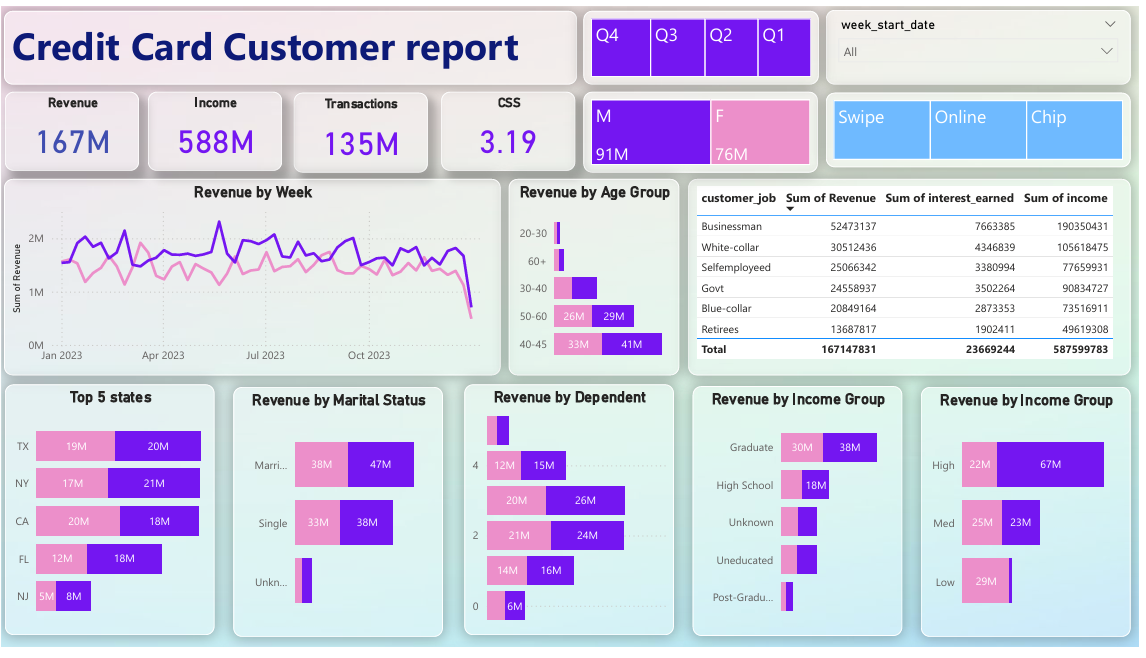

The page's visual inventory and layout, read from the dashboard file:
{"tool":"powerbi","page":{"name":"Credit card Customer report","canvas":[1280,720],"ordinal":2},"visuals":[{"type":"textbox","box":[3.5,4.7,644.2,83.7],"z":0},{"type":"tableEx","fields":{"Values":["public cust_detail.customer_job","Sum(public cc_detail.Revenue)","Sum(public cc_detail.interest_earned)","public cust_detail.income"]},"box":[773.3,194.2,497.7,220.9],"z":1000},{"type":"card","title":"Revenue","fields":{"Values":["Sum(public cc_detail.Revenue)"]},"box":[4.1,96.1,150.9,89.2],"z":2000},{"type":"card","title":"Transactions","fields":{"Values":["Sum(public cc_detail.total_trans_amt)"]},"box":[329.3,97.4,150.9,89.2],"z":3000},{"type":"card","title":"Income","fields":{"Values":["Sum(public cust_detail.income)"]},"box":[164.7,96.1,150.9,89.2],"z":4000},{"type":"card","title":"CSS","fields":{"Values":["Avg(public cust_detail.cust_satisfaction_score)"]},"box":[495.4,96.1,150.9,89.2],"z":5000},{"type":"slicer","fields":{"Values":["public cc_detail.week_start_date"]},"box":[927.6,4.1,343.1,83.7],"z":6000},{"type":"treemap","fields":{"Group":["public cc_detail.qtr"],"Values":["Avg(public cc_detail.client_num)"]},"box":[654.7,4.7,265.1,83.7],"z":7000},{"type":"barChart","title":"Revenue by Income Group","fields":{"Y":["Sum(public cc_detail.Revenue)"],"Category":["public cust_detail.IncomeGroup"],"Series":["public cust_detail.gender"]},"box":[1034.7,428.1,236,281.3],"z":8000},{"type":"lineChart","title":"Revenue by Week","fields":{"Y":["Sum(public cc_detail.Revenue)"],"Series":["public cust_detail.gender"],"Category":["public cc_detail.week_start_date.Variation.Date Hierarchy.Year","public cc_detail.week_start_date.Variation.Date Hierarchy.Month","public cc_detail.week_start_date.Variation.Date Hierarchy.Day"]},"box":[3.5,194.2,558.1,220.9],"z":9000},{"type":"treemap","title":"Revenue by gender","fields":{"Group":["public cust_detail.gender"],"Values":["Sum(public cc_detail.Revenue)"]},"box":[654.5,96.1,264.8,90.6],"z":10000},{"type":"barChart","title":"Revenue by Age Group","fields":{"Y":["Sum(public cc_detail.Revenue)"],"Category":["public cust_detail.AgeGroup"],"Series":["public cust_detail.gender"]},"box":[570.9,194.2,191.9,220.9],"z":11000},{"type":"barChart","title":"Revenue by Dependent","fields":{"Y":["Sum(public cc_detail.Revenue)"],"Category":["public cust_detail.dependent_count"],"Series":["public cust_detail.gender"]},"box":[521.4,425.4,236,281.3],"z":12000},{"type":"barChart","title":"Top 5 states","fields":{"Y":["Sum(public cc_detail.Revenue)"],"Category":["public cust_detail.state_cd"],"Series":["public cust_detail.gender"]},"box":[4.1,425.4,236,281.3],"z":13000},{"type":"barChart","title":"Revenue by Marital Status","fields":{"Y":["Sum(public cc_detail.Revenue)"],"Category":["public cust_detail.marital_status"],"Series":["public cust_detail.gender"]},"box":[260.7,428.1,236,281.3],"z":14000},{"type":"barChart","title":"Revenue by Income Group","fields":{"Y":["Sum(public cc_detail.Revenue)"],"Category":["public cust_detail.education_level"],"Series":["public cust_detail.gender"]},"box":[778,426.8,236,281.3],"z":15000},{"type":"treemap","fields":{"Values":["Avg(public cc_detail.client_num)"],"Group":["public cc_detail.use_chip"]},"box":[927.6,97.4,343.1,83.7],"z":16000}]}

Visuals, with their boxes in screenshot pixels (x1, y1, x2, y2), scaled from the page's 1280x720 canvas onto the 1146x658 screenshot:
textbox: x1=3, y1=4, x2=580, y2=81
tableEx - public cust_detail.customer_job x Sum(public cc_detail.Revenue): x1=692, y1=177, x2=1138, y2=379
"Revenue" card: x1=4, y1=88, x2=139, y2=169
"Transactions" card: x1=295, y1=89, x2=430, y2=171
"Income" card: x1=147, y1=88, x2=283, y2=169
"CSS" card: x1=444, y1=88, x2=579, y2=169
slicer - public cc_detail.week_start_date: x1=830, y1=4, x2=1138, y2=80
treemap - public cc_detail.qtr x Avg(public cc_detail.client_num): x1=586, y1=4, x2=824, y2=81
"Revenue by Income Group" barChart: x1=926, y1=391, x2=1138, y2=648
"Revenue by Week" lineChart: x1=3, y1=177, x2=503, y2=379
"Revenue by gender" treemap: x1=586, y1=88, x2=823, y2=171
"Revenue by Age Group" barChart: x1=511, y1=177, x2=683, y2=379
"Revenue by Dependent" barChart: x1=467, y1=389, x2=678, y2=646
"Top 5 states" barChart: x1=4, y1=389, x2=215, y2=646
"Revenue by Marital Status" barChart: x1=233, y1=391, x2=445, y2=648
"Revenue by Income Group" barChart: x1=697, y1=390, x2=908, y2=647
treemap - Avg(public cc_detail.client_num) x public cc_detail.use_chip: x1=830, y1=89, x2=1138, y2=166
